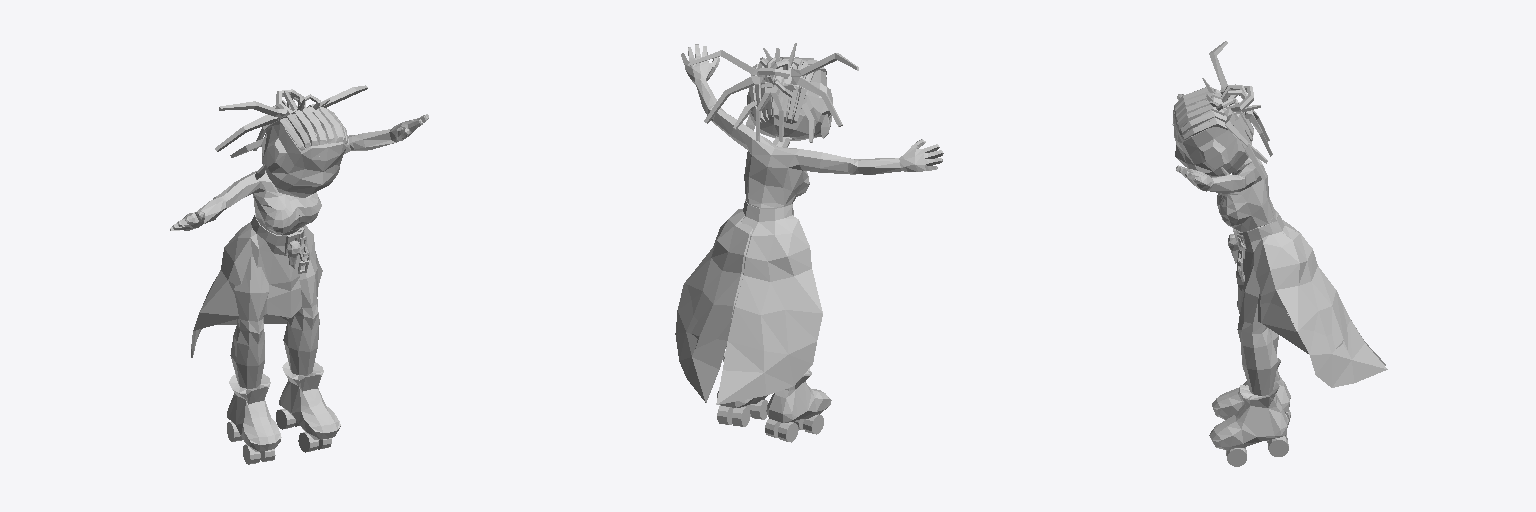
The model's file is bruja_000145.obj.
3 renders of one model, left to right at view 1: azimuth 30°, elevation 25°; view 2: azimuth 150°, elevation 25°; view 3: azimuth 270°, elevation 25°, orthographic.
Parts seen in each view (by area): view 1: Bruja_Plane.001; view 2: Bruja_Plane.001; view 3: Bruja_Plane.001.
Part boxes in pixels (x1,y1,x2,y2): Bruja_Plane.001: (170, 85, 428, 464); Bruja_Plane.001: (675, 43, 943, 442); Bruja_Plane.001: (1172, 41, 1387, 466).
Bounding box in the file's own units: 11.84 × 16.44 × 8.59.